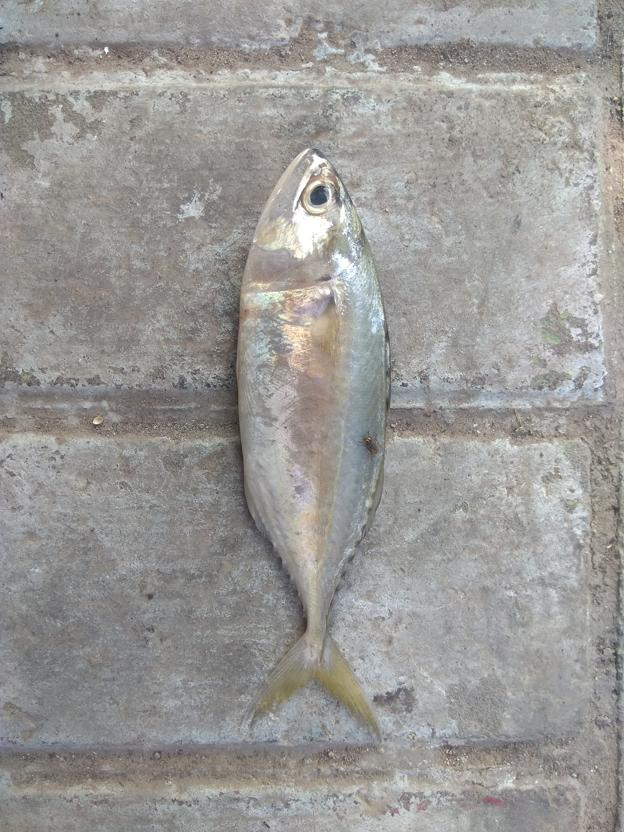Fish head: (239, 145, 383, 293)
Fish tail: (239, 624, 387, 739)
